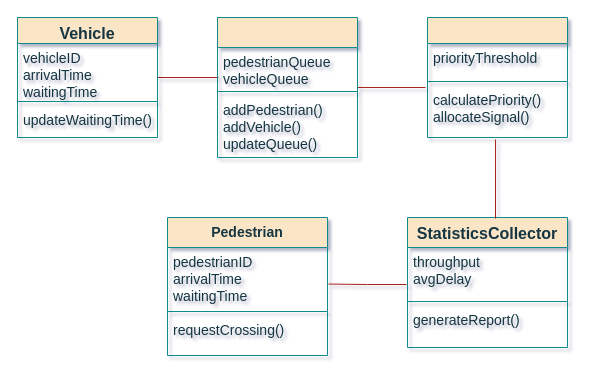
The diagram is 591 pixels wide and 382 high, and some of its shapes have lost their labels. Each missing label, with the box of its shape:
QueueManager: (216, 16, 358, 158)
SignalController: (426, 16, 568, 138)
